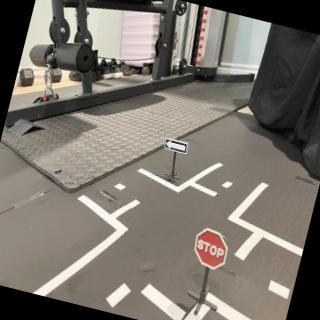sign_oneway_left: (162, 137, 191, 158)
sign_stop: (188, 224, 234, 275)
